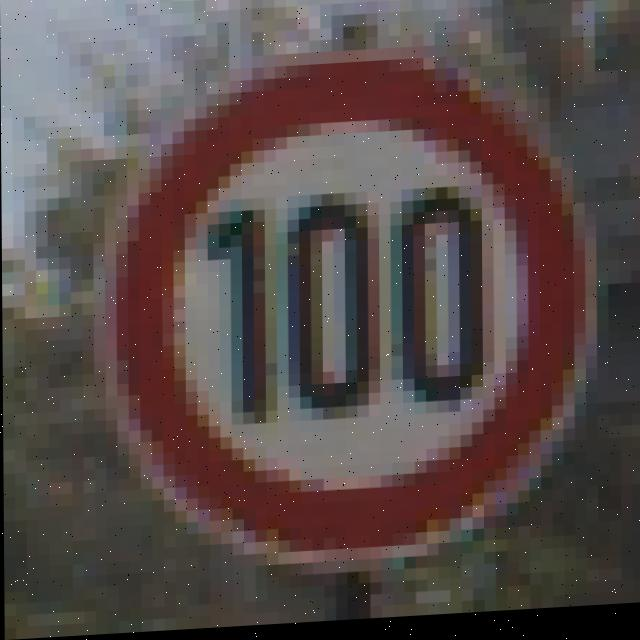speed_limit_100: (116, 33, 568, 568)
